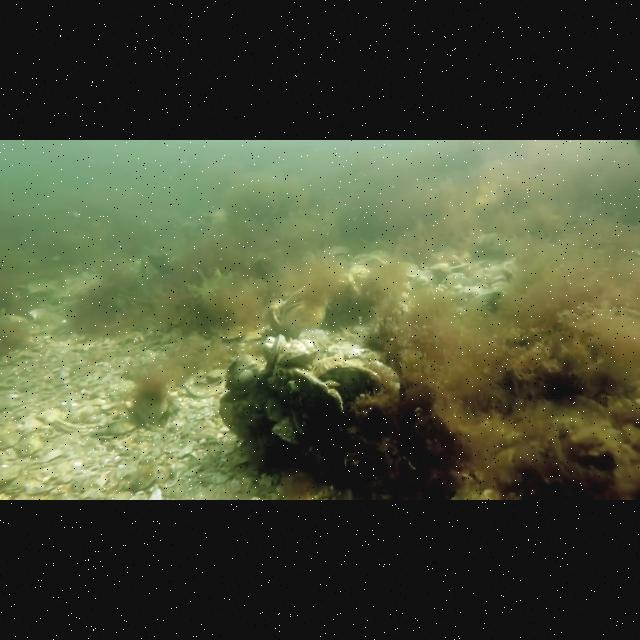Oyster-Closed: (310, 355, 384, 401), (288, 365, 350, 419), (280, 295, 328, 333), (279, 335, 327, 368), (266, 415, 305, 455), (257, 333, 286, 384)
